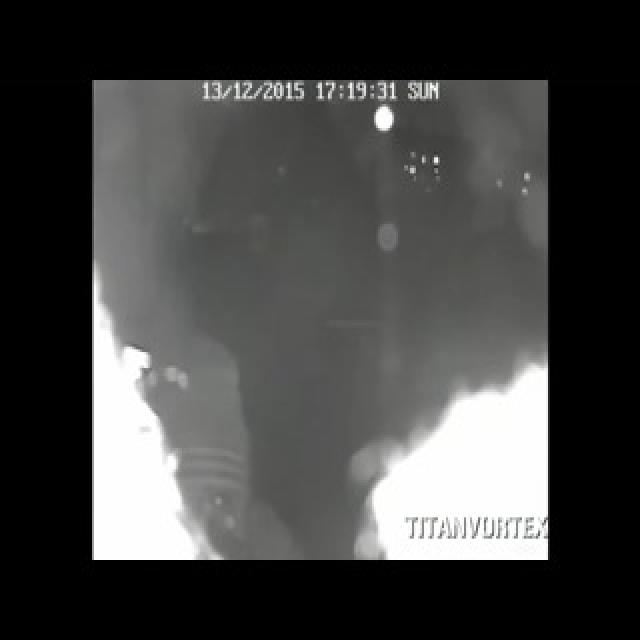thief: (124, 327, 270, 560)
